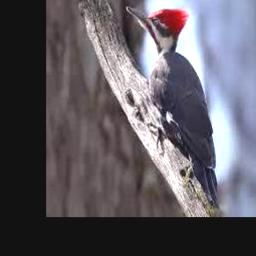Woodpecker: (126, 6, 219, 206)
